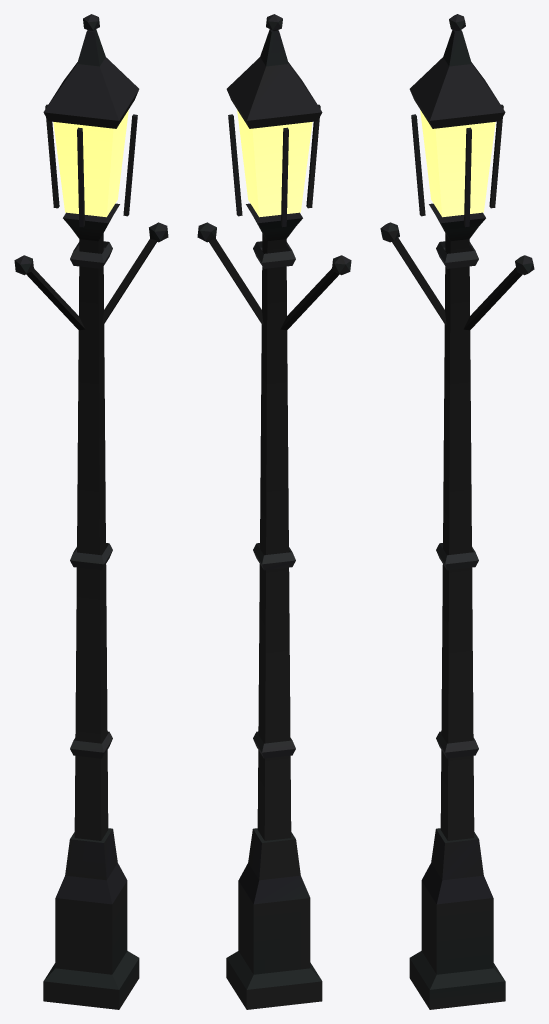
The model's file is rb_lamp_lo-CKJ1_mW_.glb.
3 views of the same model, side by side, from view 1: azimuth 30°, elevation 25°; view 2: azimuth 150°, elevation 25°; view 3: azimuth 330°, elevation 25° (orthographic).
Bounding box in the file's own units: 0.6315 × 3.89 × 0.4.
